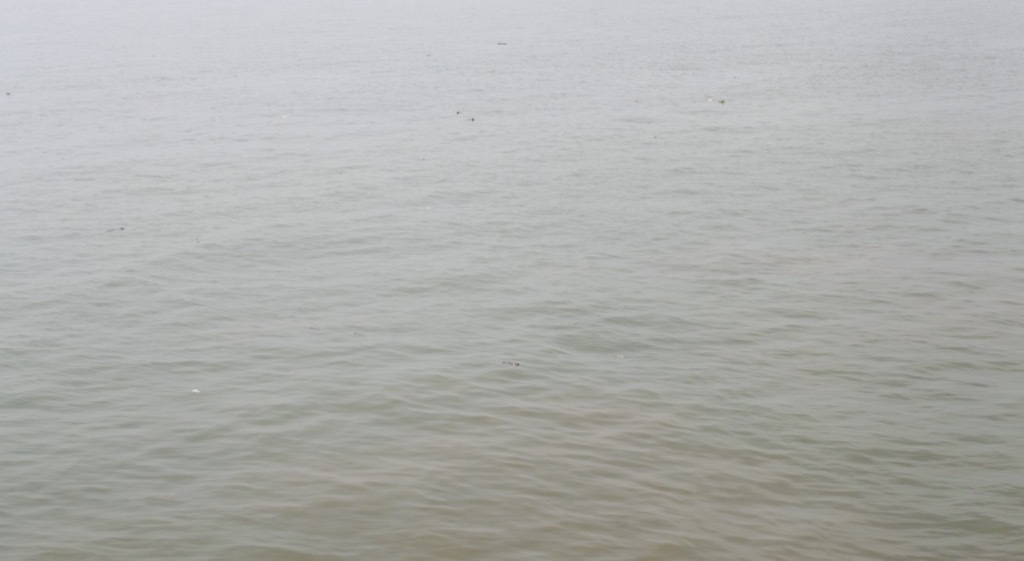organic: (103, 219, 130, 237), (703, 91, 730, 107), (492, 32, 512, 51), (1, 85, 20, 102), (499, 356, 522, 370), (463, 112, 483, 126), (450, 103, 466, 119)
plastic: (188, 385, 204, 398), (422, 202, 434, 214)
